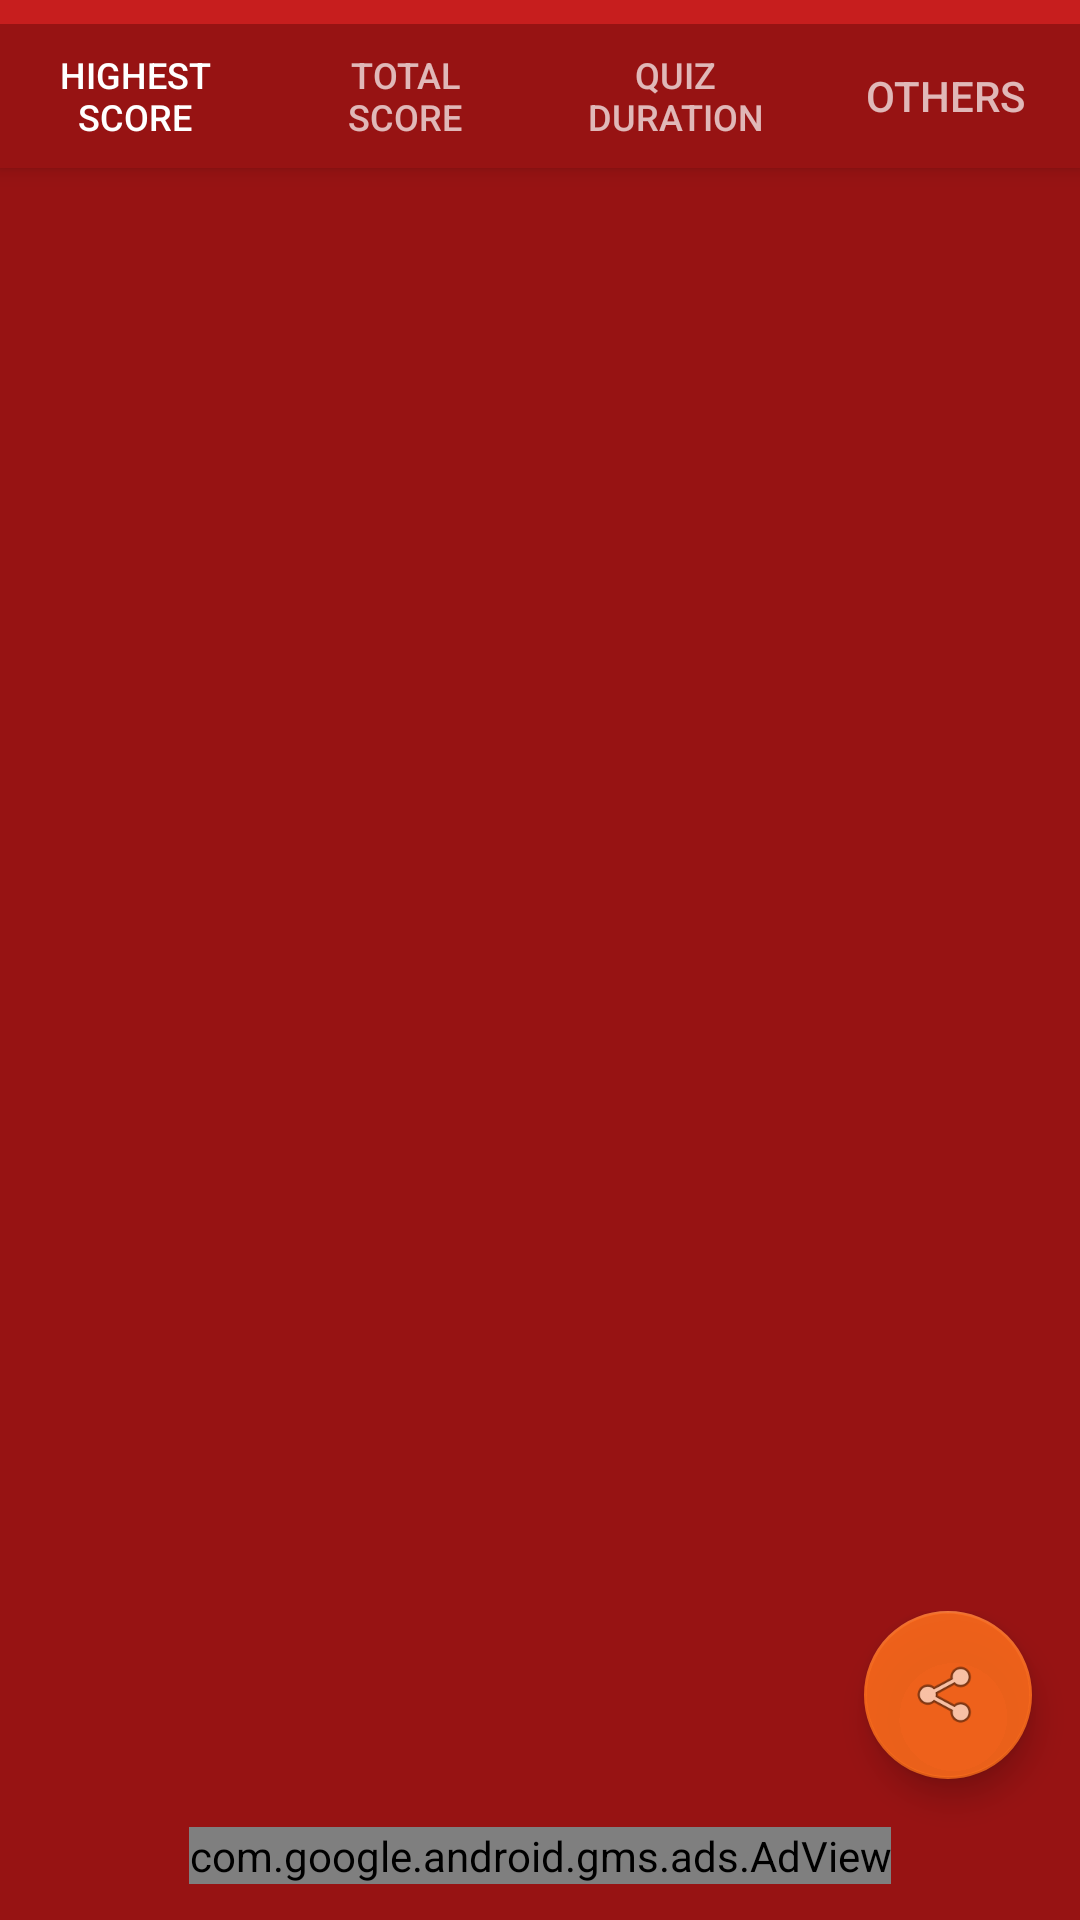

Locate icon controls on the screen. Image size 1080 x 1920, boxes as bbox=(x1, y1, x2, y2).
share: bbox=(864, 1611, 1032, 1779)
